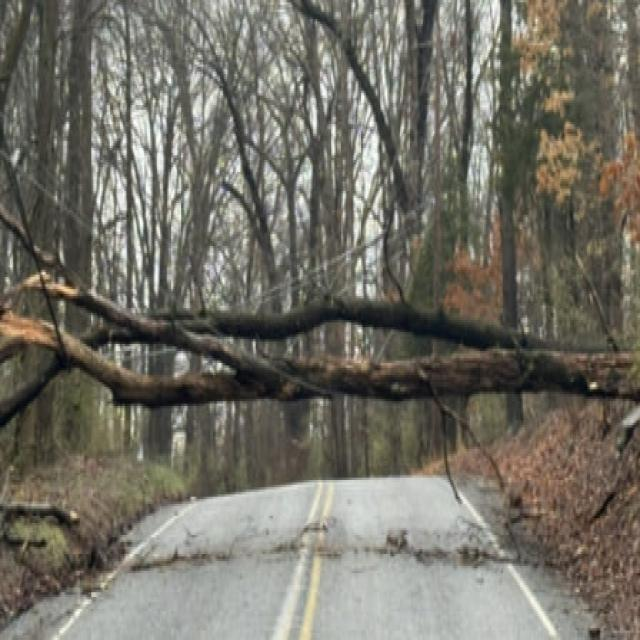fallen_tree: (0, 162, 640, 446)
